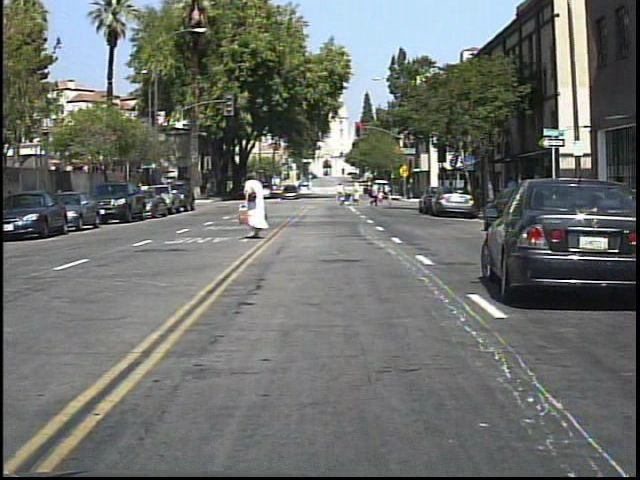person: (239, 168, 272, 242), (611, 167, 631, 231), (505, 167, 525, 218), (369, 177, 383, 209), (352, 179, 364, 209)
